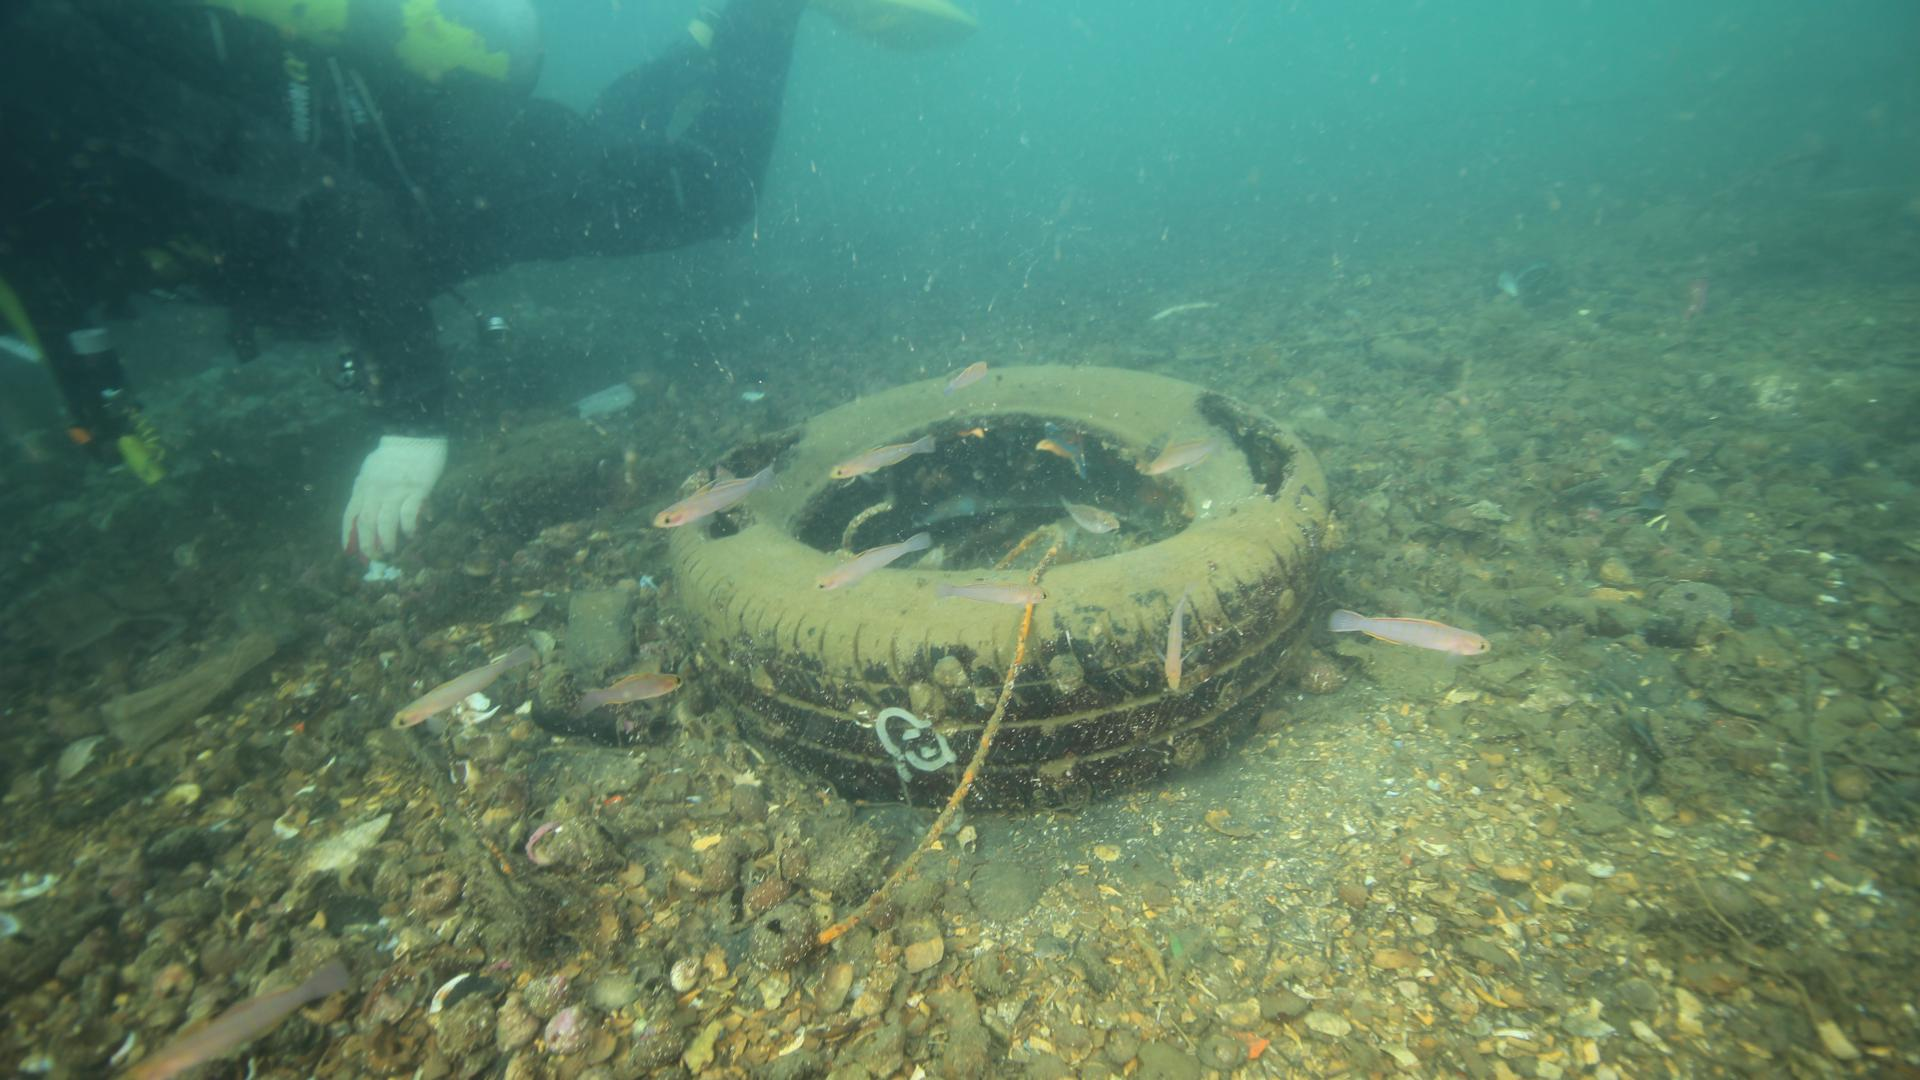tire: (665, 364, 1331, 808)
